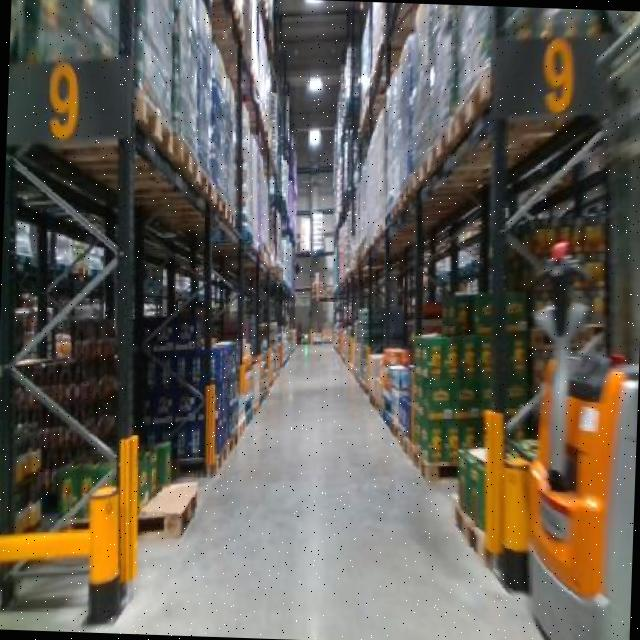pallet: (143, 470, 203, 548), (442, 492, 488, 572)
